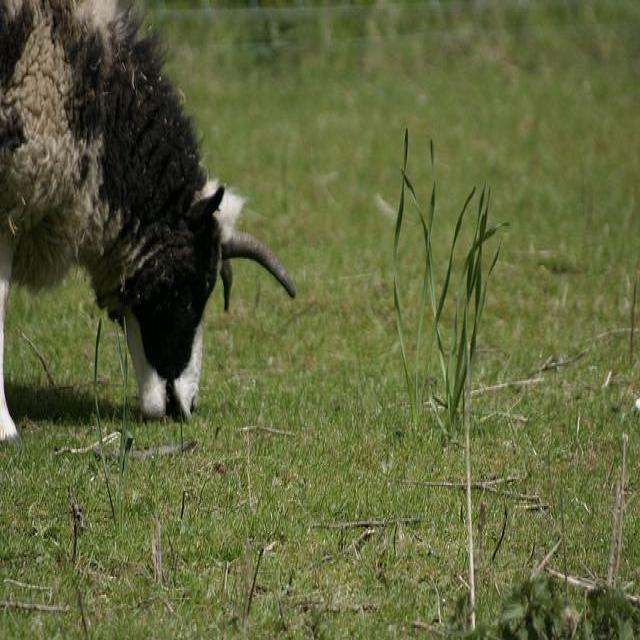Sheep: (0, 1, 299, 442)
